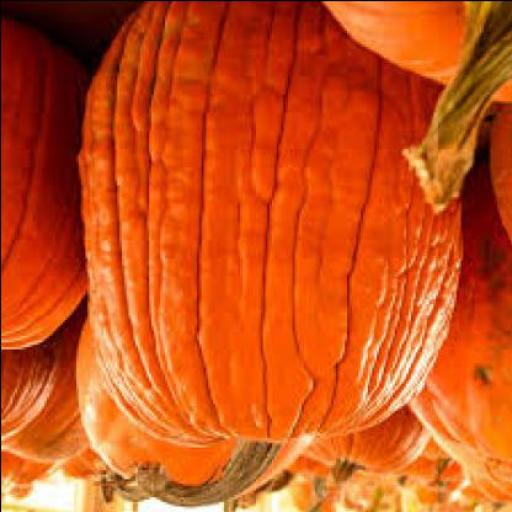biodegradable: (73, 2, 460, 510), (70, 312, 310, 504), (316, 3, 510, 214), (402, 146, 510, 503), (1, 17, 89, 353), (1, 299, 89, 464), (1, 1, 148, 69), (303, 406, 426, 486), (0, 335, 53, 450), (282, 456, 359, 510), (485, 102, 509, 257), (55, 453, 114, 505), (2, 452, 56, 503), (218, 478, 283, 510), (409, 446, 457, 488), (336, 478, 399, 510), (287, 482, 337, 511), (414, 488, 459, 510), (462, 492, 510, 511)
